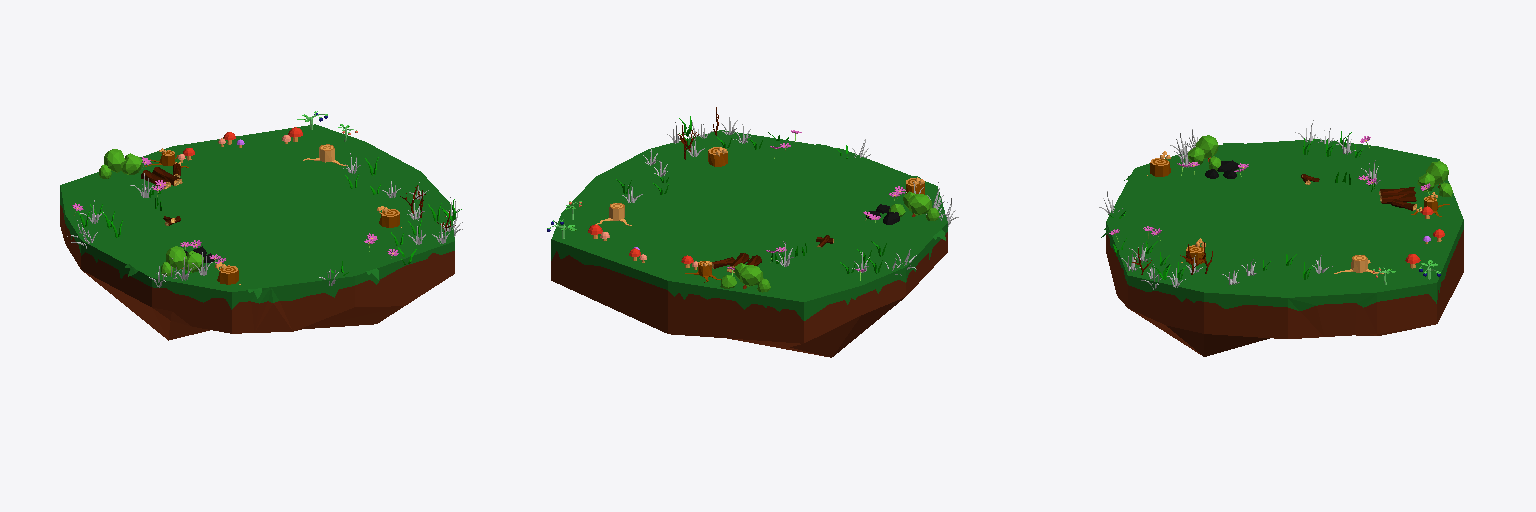
3 views of the same model, side by side, from view 1: azimuth 30°, elevation 25°; view 2: azimuth 150°, elevation 25°; view 3: azimuth 270°, elevation 25° (orthographic).
Parts seen in each view (by area): view 1: Plane001, ���ڧݧڧߧէ�001, ���ڧݧڧߧէ�; view 2: Plane001, ���ڧݧڧߧէ�001, ���ڧݧڧߧէ�; view 3: Plane001, ���ڧݧڧߧէ�001, ���ڧݧڧߧէ�.
Part boxes in pixels (bbox=[...]): Plane001: bbox=[60, 124, 454, 340]; ���ڧݧڧߧէ�001: bbox=[99, 149, 142, 178]; ���ڧݧڧߧէ�: bbox=[161, 246, 203, 275]; Plane001: bbox=[551, 130, 947, 357]; ���ڧݧڧߧէ�001: bbox=[720, 263, 770, 292]; ���ڧݧڧߧէ�: bbox=[889, 191, 939, 220]; Plane001: bbox=[1106, 139, 1463, 356]; ���ڧݧڧߧէ�001: bbox=[1417, 161, 1452, 196]; ���ڧݧڧߧէ�: bbox=[1188, 135, 1220, 170].
Size of the model in its own units: 1018 by 430 by 960.
8 materials, 1 textured.